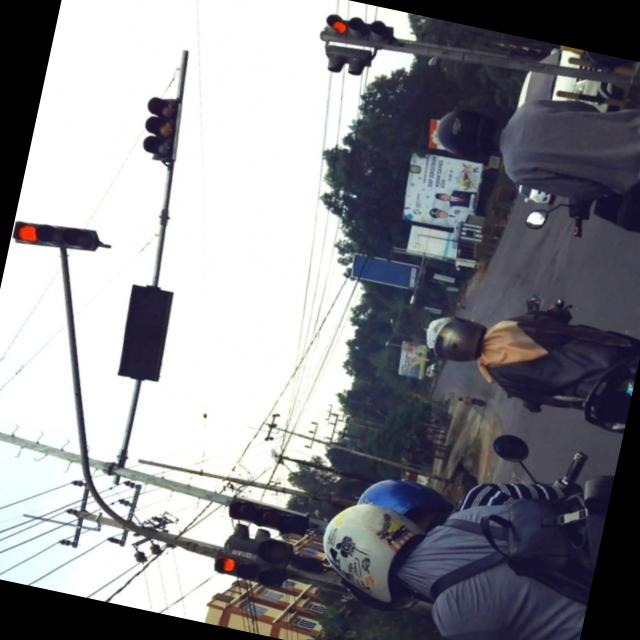red-lights: (16, 222, 40, 242)
